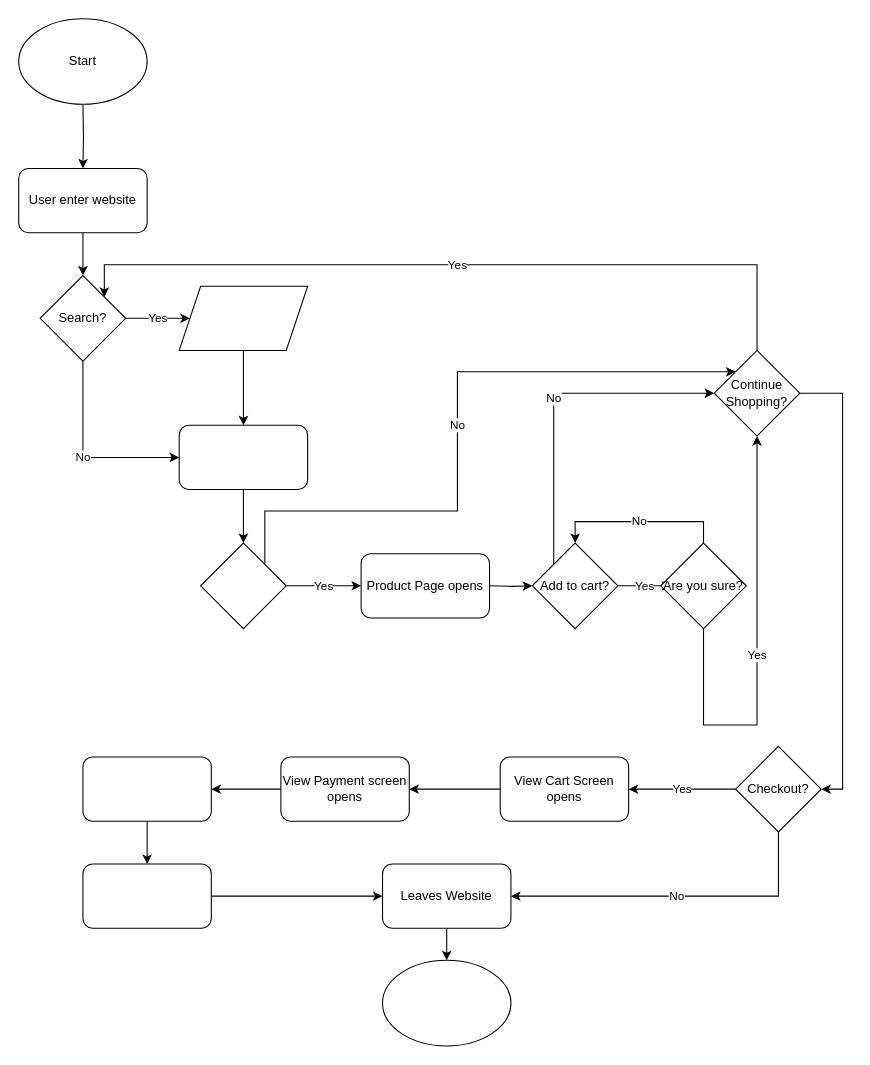
Some shapes in this 870 by 1065 pixel diagram are drawn without their labels. Here are the shapes that lost their labels. From the top down, the centre of each, then its label:
(x=243, y=317): User input
(x=243, y=457): Look over products
(x=243, y=585): View (specific) product?
(x=146, y=788): Input payment information
(x=146, y=895): Order confirmation and email
(x=446, y=1002): End
